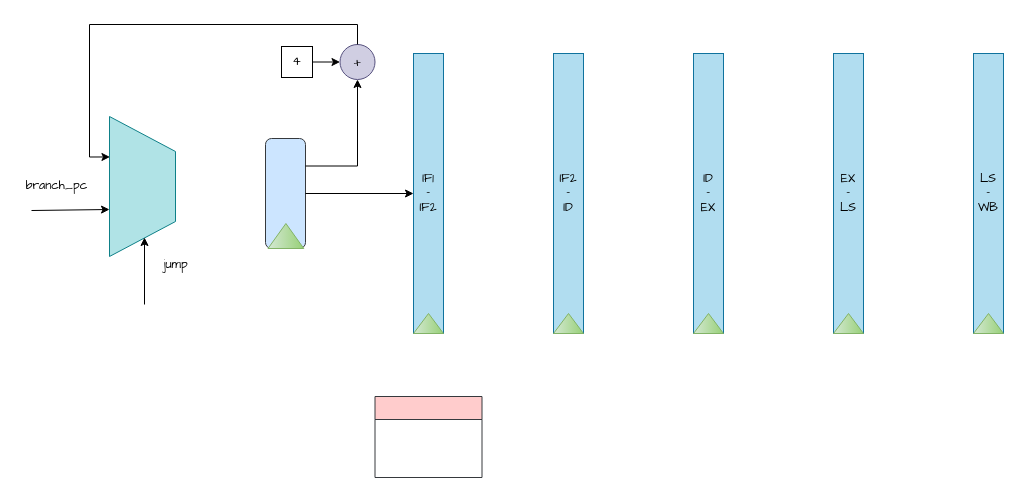
Some shapes in this 1021 by 495 pixel diagram are drawn without their labels. Each missing label, with the centre of its shape:
ICache: point 428,437
NPC Mux: point 142,186
